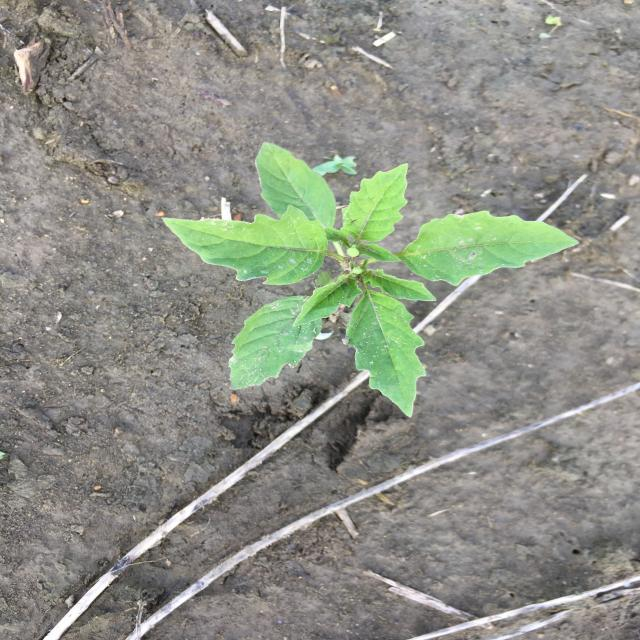CutleafGroundcherry: (159, 141, 582, 420)
